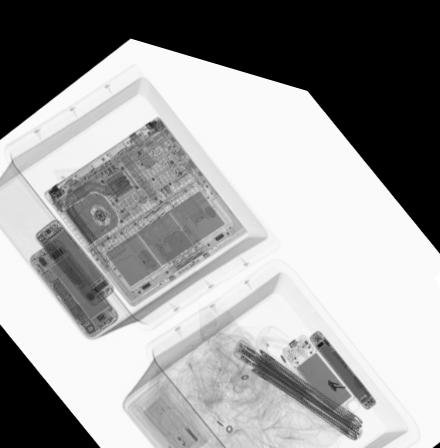Powerbank: (277, 313, 364, 404)
